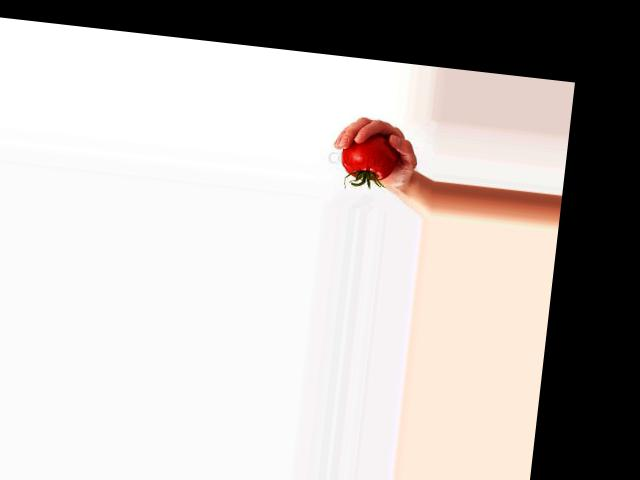tomato: (339, 130, 398, 183)
